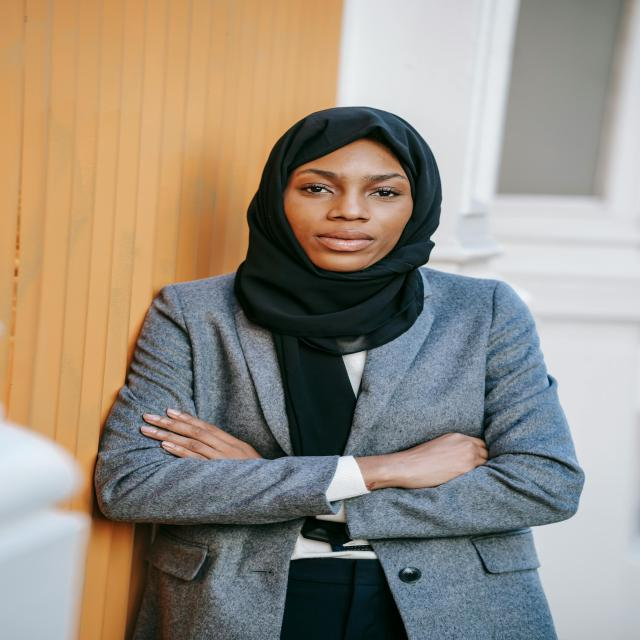human: (90, 98, 595, 640)
